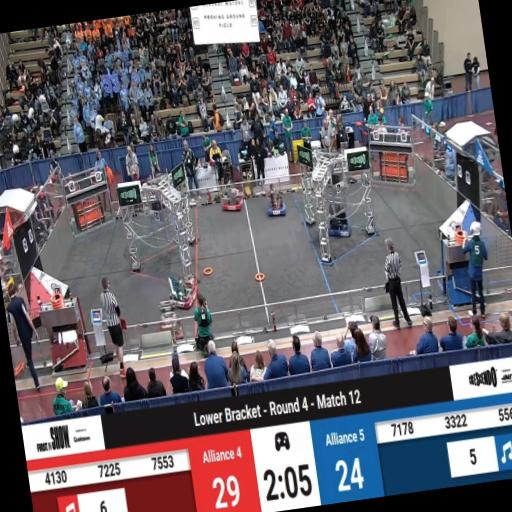robot: (166, 274, 200, 312), (324, 203, 352, 238), (220, 184, 244, 214), (265, 188, 288, 217)
